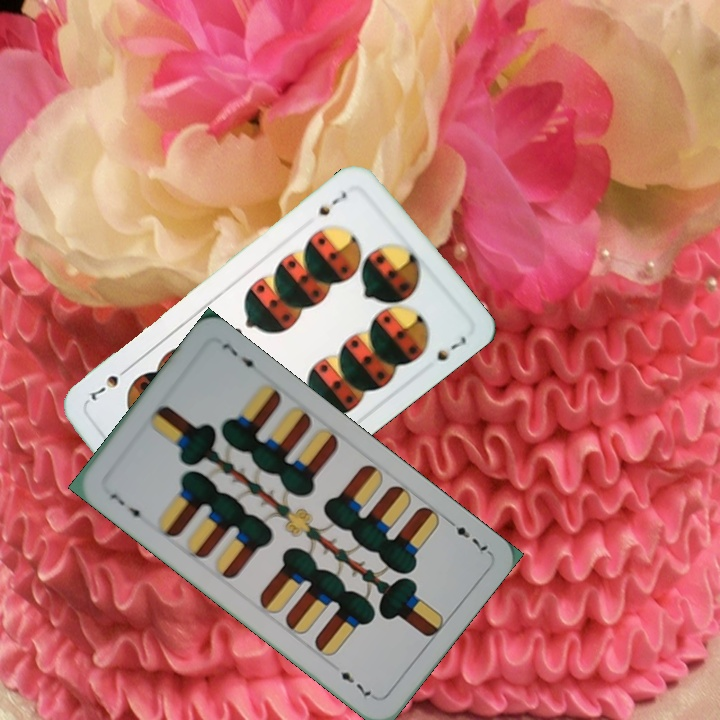E7: (442, 514, 492, 558), (106, 489, 147, 525)
S7: (314, 187, 349, 219)
